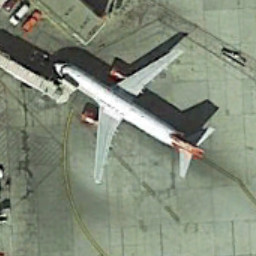Airplane: (40, 29, 221, 199)
